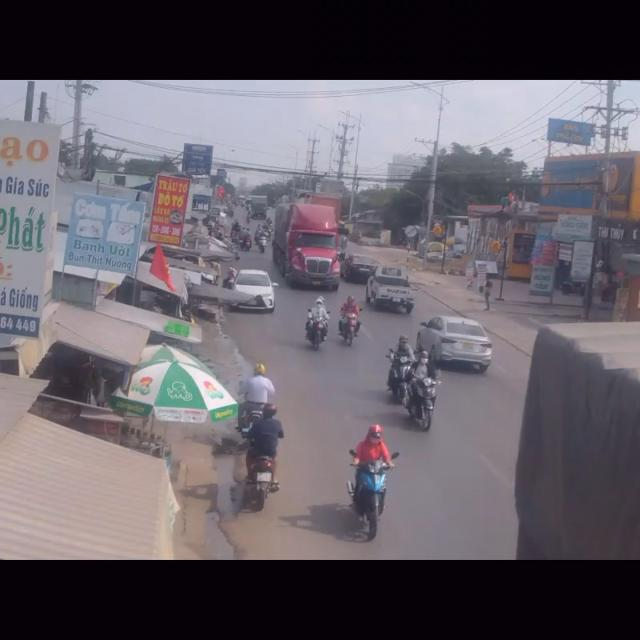car: (420, 312, 492, 370), (229, 268, 274, 313)
motorbike: (342, 420, 393, 544), (246, 406, 285, 515), (402, 340, 440, 437), (240, 356, 271, 439), (387, 333, 413, 402), (304, 294, 330, 352), (339, 292, 359, 350)
truck: (512, 316, 640, 558), (272, 198, 341, 284), (366, 262, 413, 316)
